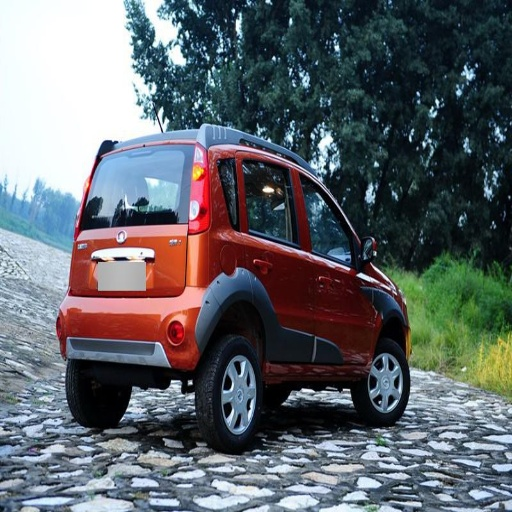back_bumper: (59, 296, 202, 365)
back_right_door: (232, 148, 317, 373)
trunk: (70, 224, 216, 347)
